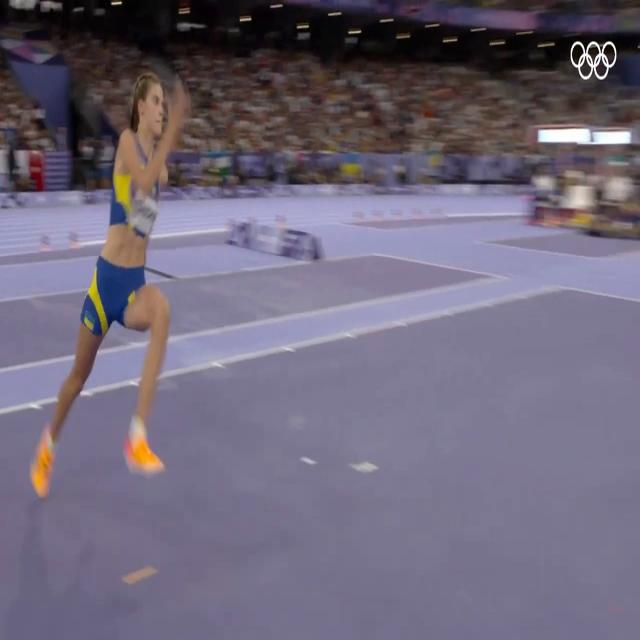run: (29, 58, 200, 505)
